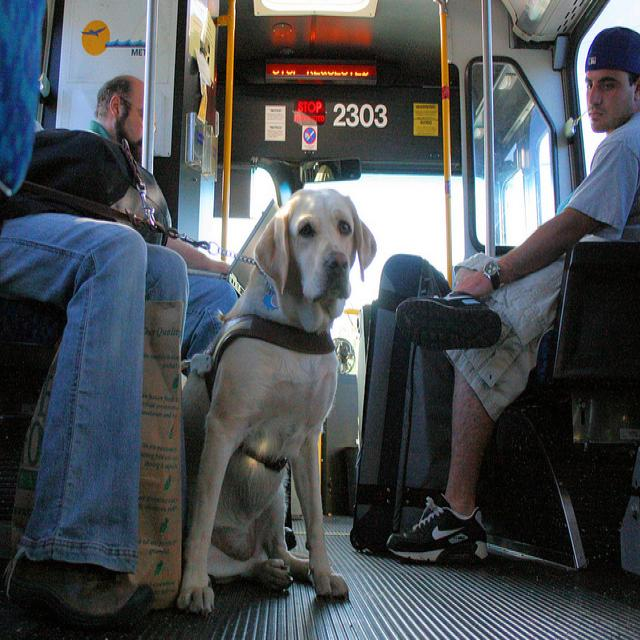Vehicle: (32, 7, 640, 631)
